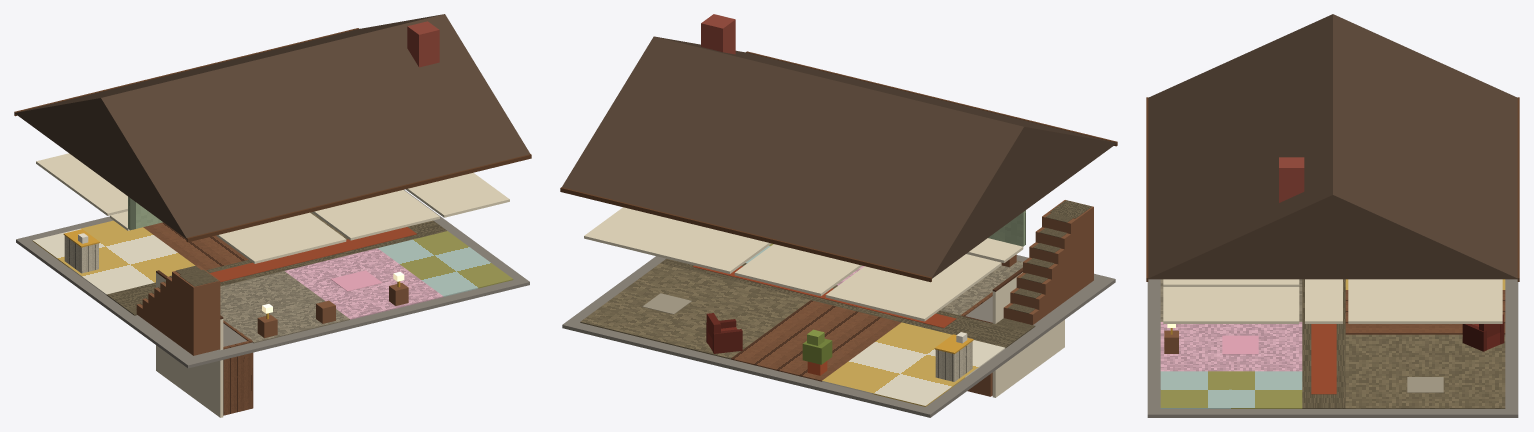
The model's file is structure.glb.
The picture shows the model from 3 angles, left to right: view 1: azimuth 30°, elevation 25°; view 2: azimuth 150°, elevation 25°; view 3: azimuth 270°, elevation 25°; orthographic projection. The views are drawn at different scales.
Parts seen in each view (by area): view 1: Part1, Box1, Box6, Box10, Box14, Box12, Box15, Box11, Box36, Box13, Box38, Box7 (+10 smaller); view 2: Part1, Box2, Box1, Box6, Box4, Box3, Box7, Box5, Box8, Box38, Box19, Box36 (+16 smaller); view 3: Part1, Box2, Box1, Box3, Box10, Box12, Box13, Box8, Box77, Box9, Box4, Box11 (+7 smaller).
Boxes of the visible parts, x1=… form: Part1: x1=14, y1=14, x2=530, y2=239; Box1: x1=16, y1=189, x2=529, y2=368; Box6: x1=32, y1=220, x2=195, y2=294; Box10: x1=285, y1=248, x2=443, y2=319; Box14: x1=220, y1=271, x2=349, y2=343; Box12: x1=378, y1=231, x2=513, y2=296; Box15: x1=216, y1=212, x2=346, y2=263; Box11: x1=312, y1=190, x2=439, y2=240; Box36: x1=178, y1=269, x2=220, y2=355; Box13: x1=406, y1=172, x2=509, y2=217; Box38: x1=156, y1=272, x2=223, y2=417; Box7: x1=36, y1=153, x2=127, y2=215; Part1: x1=562, y1=36, x2=1116, y2=278; Box2: x1=580, y1=263, x2=810, y2=359; Box1: x1=562, y1=255, x2=1115, y2=417; Box6: x1=822, y1=322, x2=1005, y2=406; Box4: x1=731, y1=300, x2=901, y2=381; Box3: x1=584, y1=207, x2=771, y2=273; Box7: x1=825, y1=254, x2=1001, y2=321; Box5: x1=734, y1=244, x2=862, y2=296; Box8: x1=660, y1=258, x2=1026, y2=348; Box38: x1=992, y1=272, x2=1064, y2=397; Box19: x1=560, y1=187, x2=931, y2=282; Box36: x1=1048, y1=200, x2=1093, y2=292; Part1: x1=1148, y1=14, x2=1518, y2=279; Box2: x1=1345, y1=334, x2=1505, y2=408; Box1: x1=1147, y1=279, x2=1518, y2=417; Box3: x1=1348, y1=279, x2=1502, y2=323; Box10: x1=1160, y1=322, x2=1302, y2=371; Box12: x1=1160, y1=371, x2=1302, y2=408; Box13: x1=1163, y1=287, x2=1299, y2=323; Box8: x1=1302, y1=279, x2=1345, y2=408; Box77: x1=1311, y1=324, x2=1336, y2=394; Box9: x1=1305, y1=279, x2=1342, y2=323; Box4: x1=1345, y1=290, x2=1505, y2=334; Box11: x1=1163, y1=279, x2=1299, y2=286.
Size of the model in its own units: 11.8 by 9.25 by 10.3.
33 materials, 9 textured.
